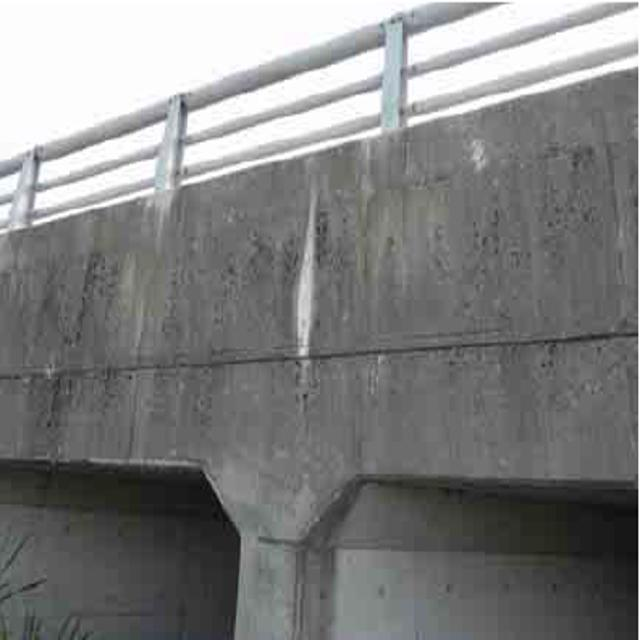freelime: (277, 196, 319, 363)
